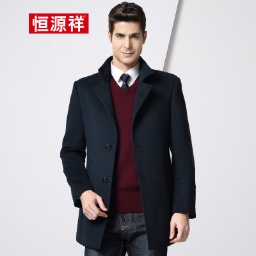face: (107, 1, 148, 65)
